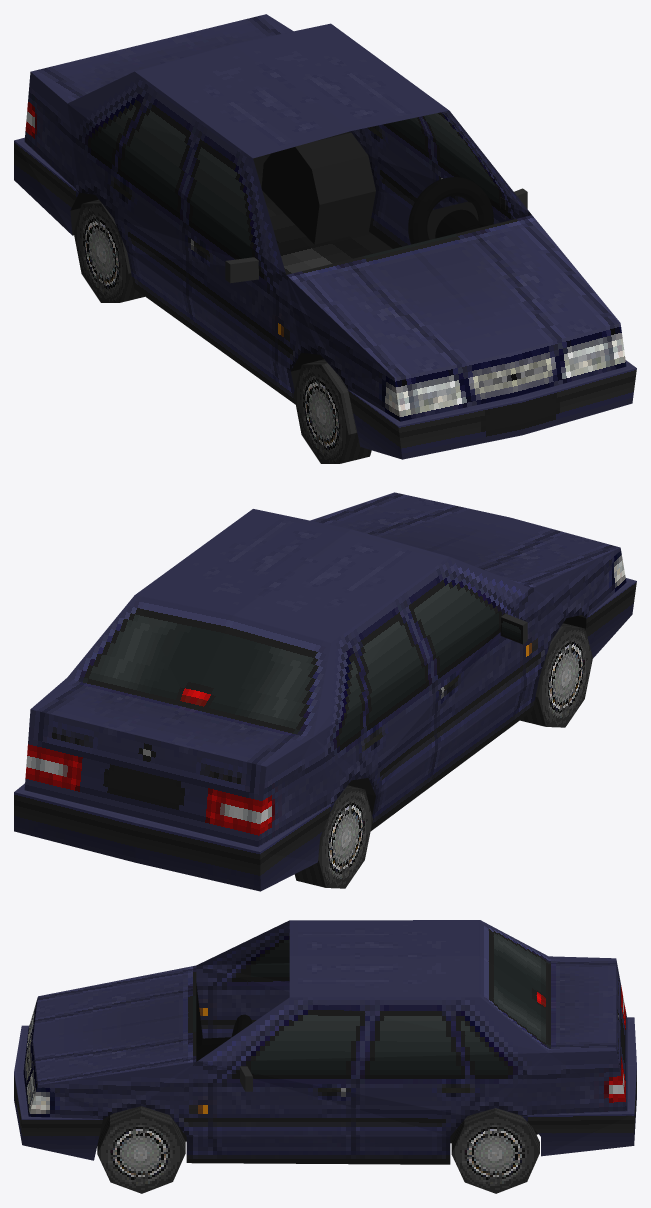
The model's file is Car2_konzol_siv_volan_fix.glb.
3 views of the same model, one above another, from view 1: azimuth 30°, elevation 25°; view 2: azimuth 150°, elevation 25°; view 3: azimuth 270°, elevation 25° (orthographic). The views are drawn at different scales.
Parts seen in each view (by area): view 1: Car2, Torus, Cylinder, Cube; view 2: Car2; view 3: Car2.
Boxes of the visible parts, <box> form: Car2: <box>14,14,636,463</box>; Torus: <box>408,177,493,244</box>; Cylinder: <box>435,209,483,238</box>; Cube: <box>427,201,478,239</box>; Car2: <box>14,492,636,891</box>; Car2: <box>14,920,636,1193</box>.
Bounding box in the file's own units: 2.9 × 2.2 × 6.53.
7 materials, 1 textured.
